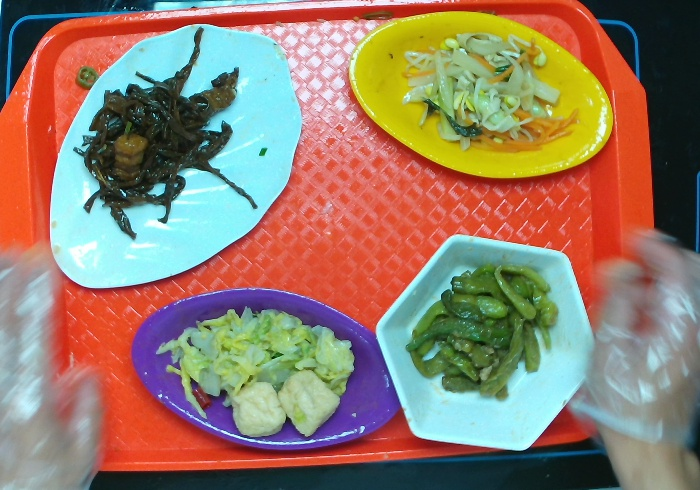RJxy-Bai_Ye_Pan: (47, 21, 303, 290)
RJxy-Fen_Hong_Tuo_Yuan: (130, 285, 402, 453)
RJxy-Huang_Se_Tuo_Yuan: (347, 9, 615, 180)
RJxy-Liu_Jiao_Wan: (374, 232, 597, 453)
